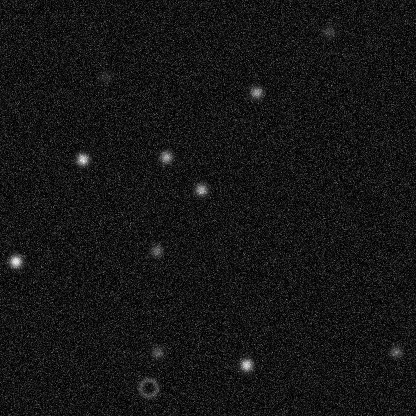Ring: (136, 375, 160, 399)
Spot: (193, 181, 209, 197), (238, 356, 254, 372), (158, 149, 174, 165), (149, 344, 165, 360), (387, 343, 403, 359), (248, 84, 264, 100), (148, 242, 164, 258), (74, 151, 90, 167), (96, 68, 112, 84), (7, 253, 23, 269), (321, 23, 337, 39)
